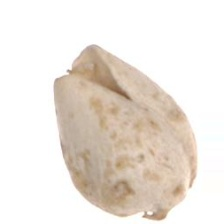L1: (53, 40, 116, 94), (136, 197, 191, 220)
L2: (52, 45, 199, 219)
